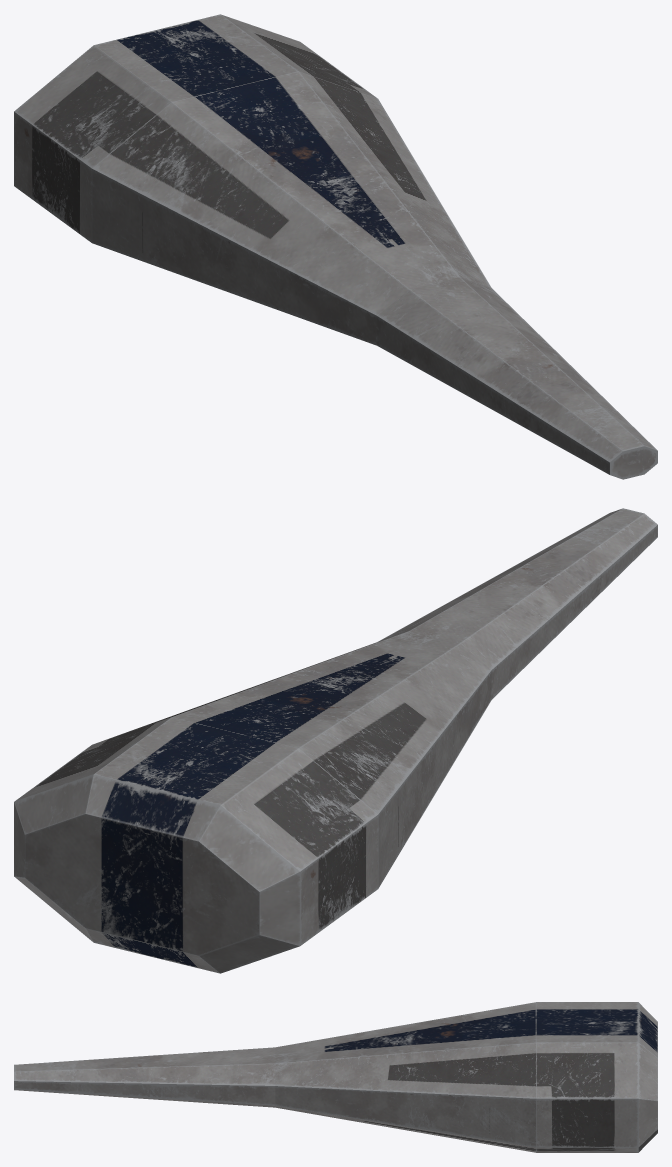
The model's file is bow_m_3.fbx.
3 views of the same model, one above another, from view 1: azimuth 30°, elevation 25°; view 2: azimuth 150°, elevation 25°; view 3: azimuth 270°, elevation 25° (orthographic). The views are drawn at different scales.
Parts seen in each view (by area): view 1: bow_m_3; view 2: bow_m_3; view 3: bow_m_3.
Part boxes in pixels (<box>): bow_m_3: <box>14,14,657,479</box>; bow_m_3: <box>14,508,657,973</box>; bow_m_3: <box>14,1002,657,1152</box>.
Size of the model in its own units: 24.86 by 13.97 by 73.97.
